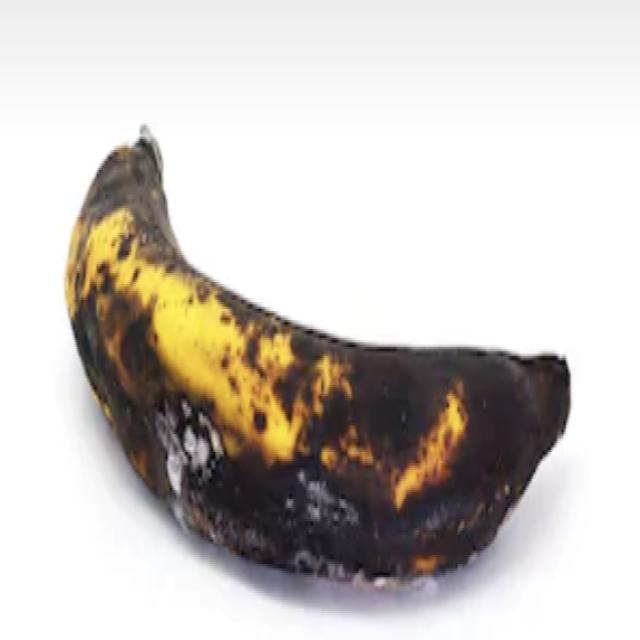rotten-banana: (62, 121, 572, 591)
